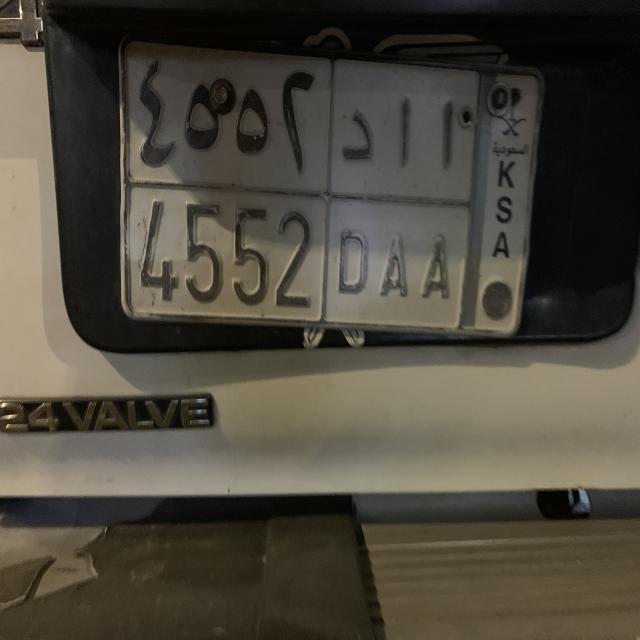license_plate: (112, 34, 548, 347)
